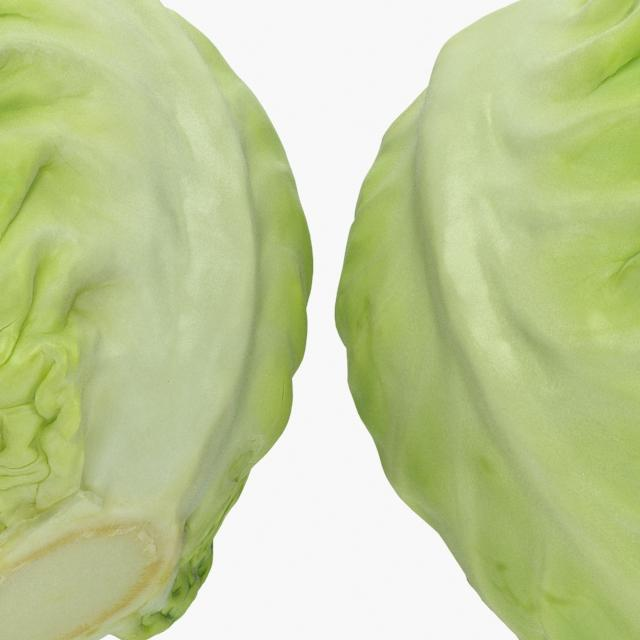cabbage: (326, 0, 640, 640), (0, 0, 312, 640)
